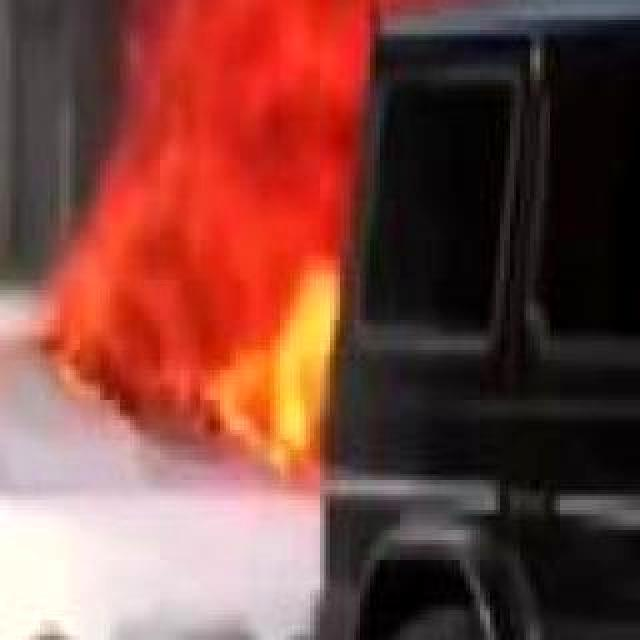fire: (100, 0, 512, 474)
